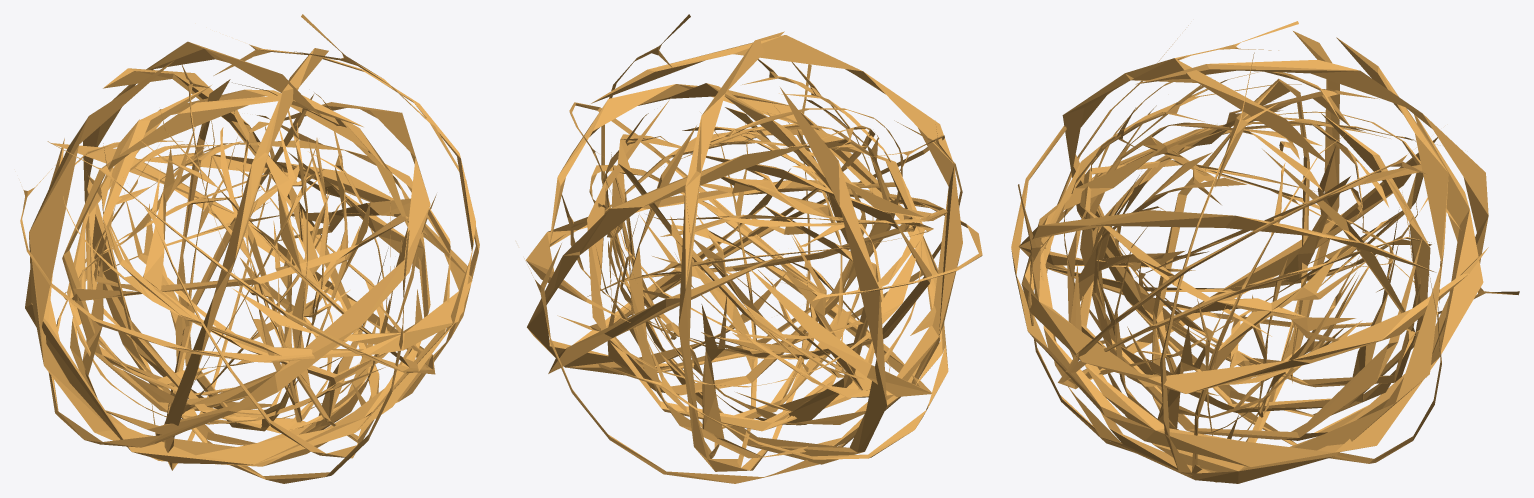
File: p_tumbleweed.glb
3 renders of one model, left to right at view 1: azimuth 30°, elevation 25°; view 2: azimuth 150°, elevation 25°; view 3: azimuth 270°, elevation 25°, orthographic. The views are drawn at different scales.
Parts seen in each view (by area): view 1: Plane.007; view 2: Plane.007; view 3: Plane.007.
Boxes of the visible parts, box(x1,y1,x2,y2) form: Plane.007: box(20, 14, 479, 483); Plane.007: box(524, 14, 982, 483); Plane.007: box(1011, 21, 1519, 483).
Bounding box in the file's own units: 538 × 564 × 576.
